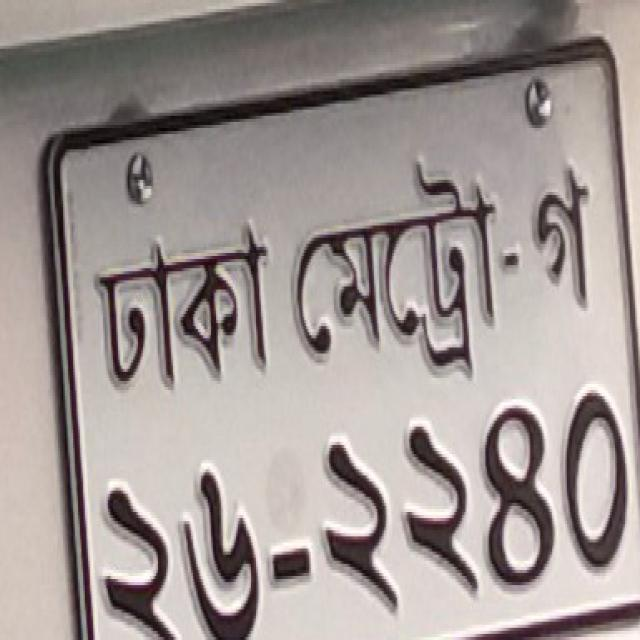numberplate: (39, 34, 638, 637)
